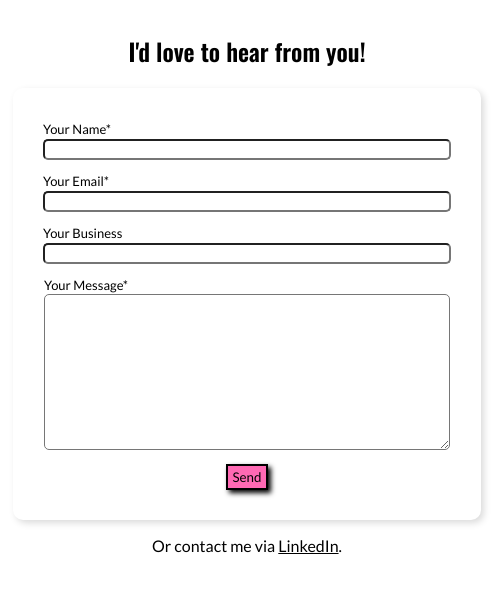
Test: Contact form › asks for all starred fields before sending
The image size is (503, 597).
Type "Ada" into the field labelled "Your Name*".
click(247, 150); type("Ada")  # box [43,139,451,160]
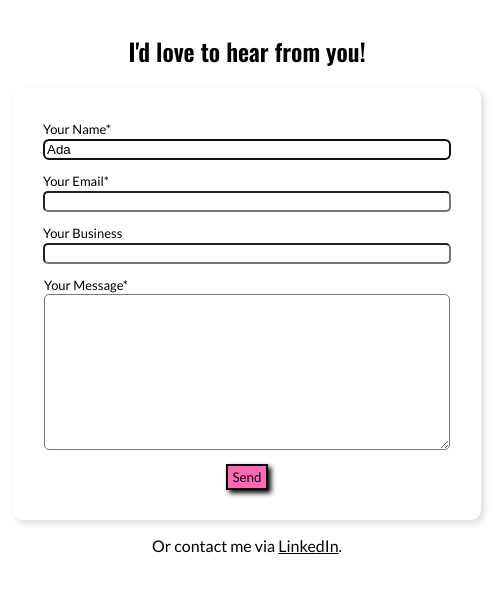
Type "ada@example.com" into the field labelled "Your Email*".
click(247, 202); type("ada@example.com")  # box [43,191,451,212]
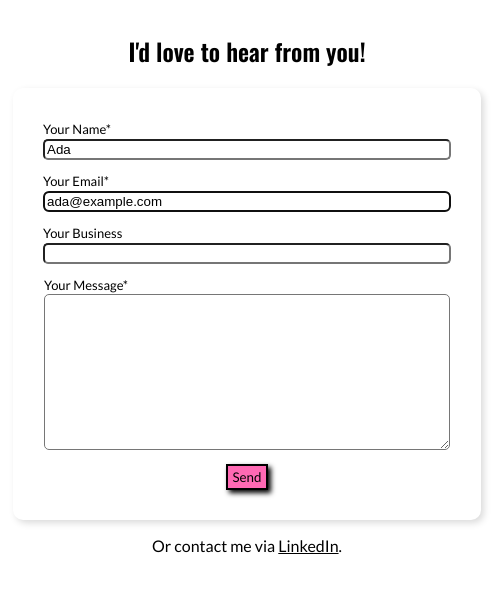
Click the button "Send".
click(247, 477)  # box [226,464,268,490]
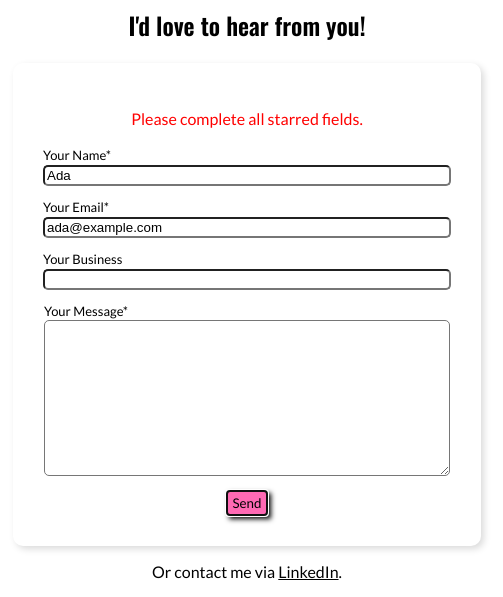
Now the text "Please complete all starred fields." is shown, box [131,109,363,128]
